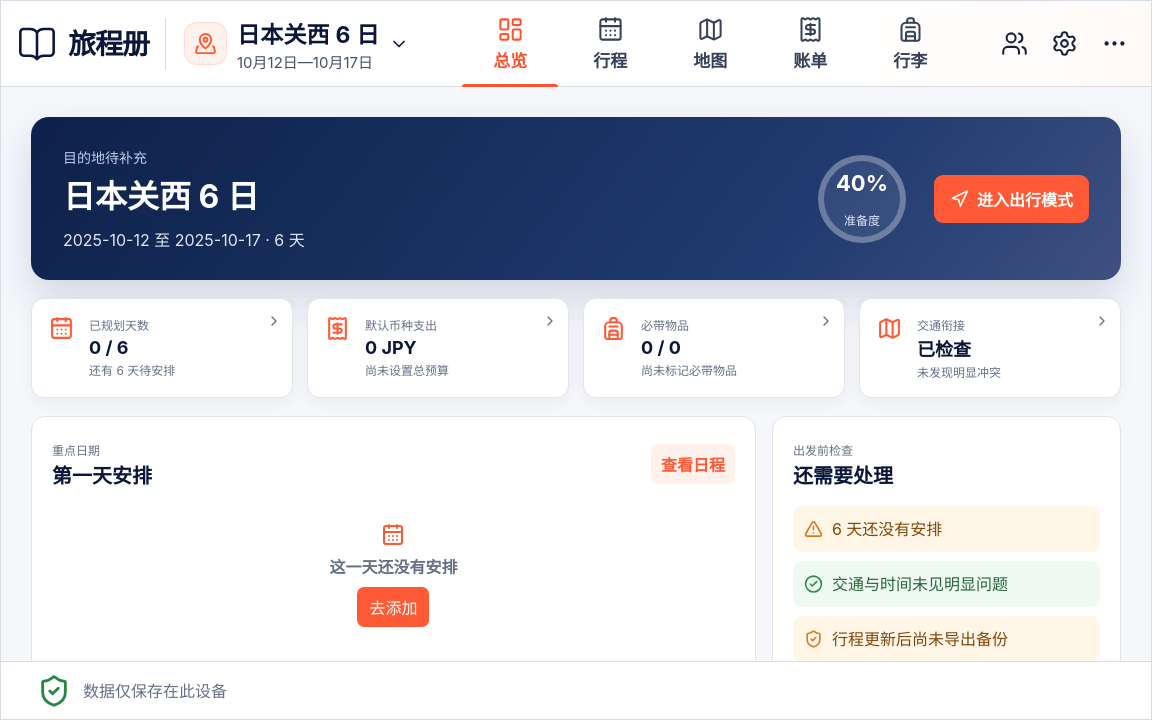
Test: App › persists a selected trip icon across the editor, workspace, and manager
This screenshot has width=1152, height=720.
Click the button named "管理行程" at (1064, 44), box [1043,22,1085,64]
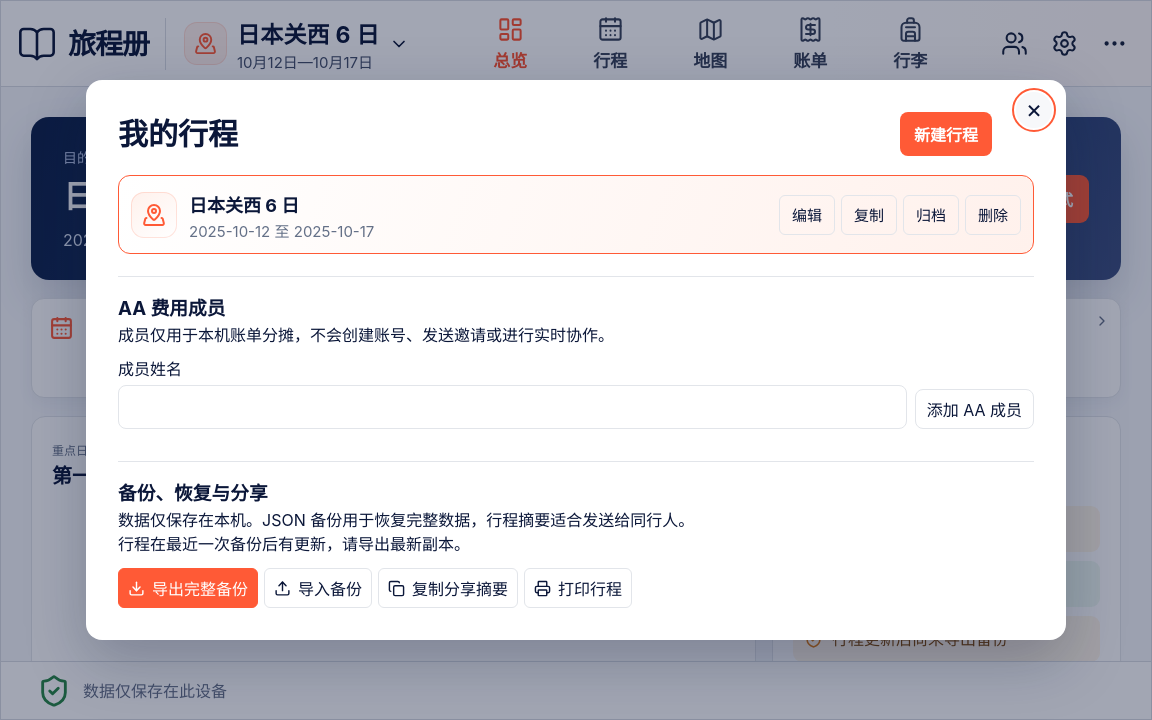
Click the button "编辑" at (807, 214), box [779,194,835,234]
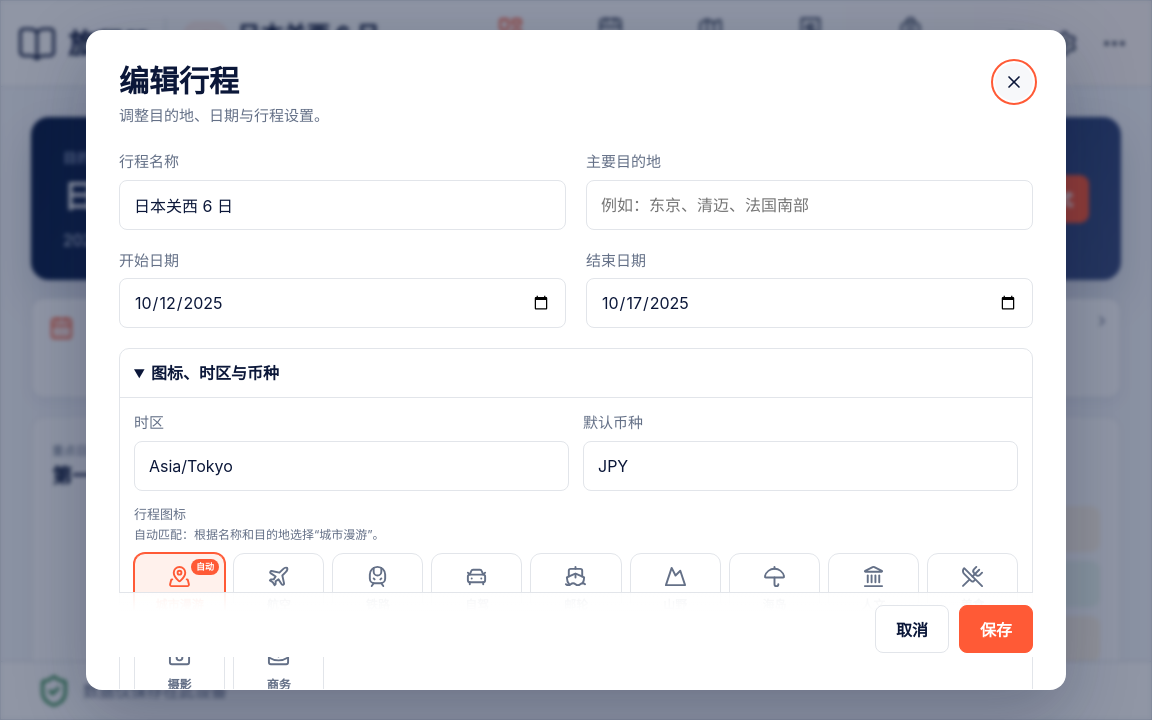
Click the radio button with aria-label "选择图标：航空" at (279, 589), box [233,553,324,625]
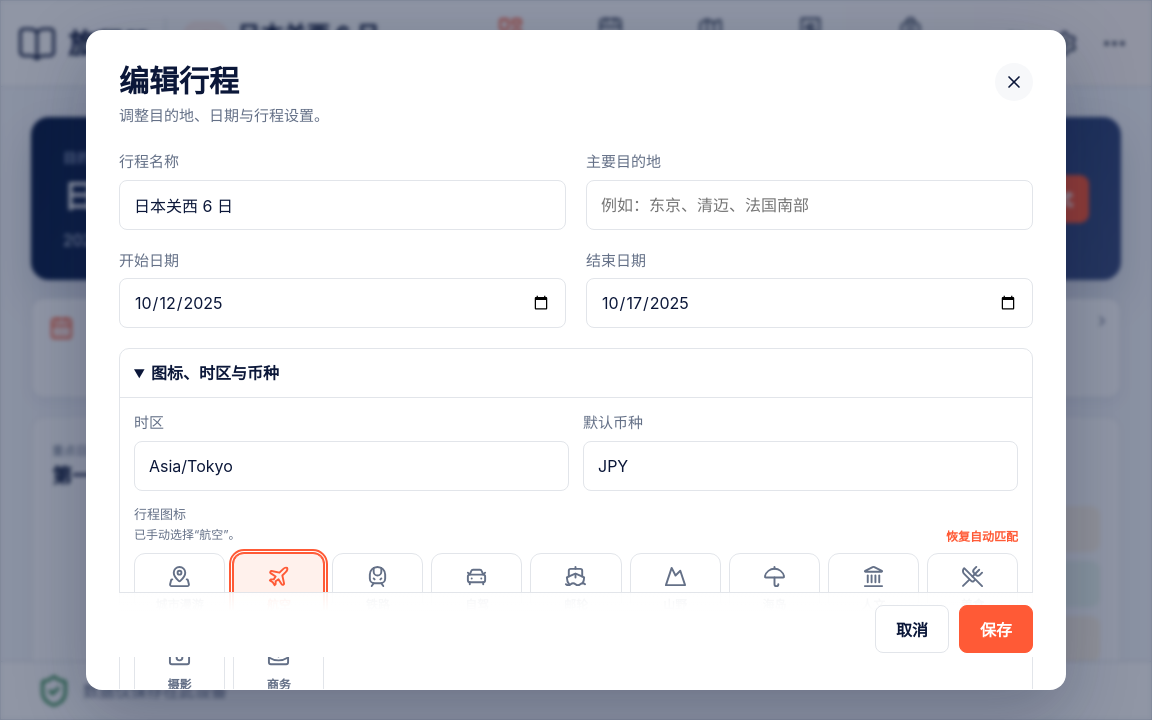
Click the button "保存" at (996, 629), box [959,605,1033,653]
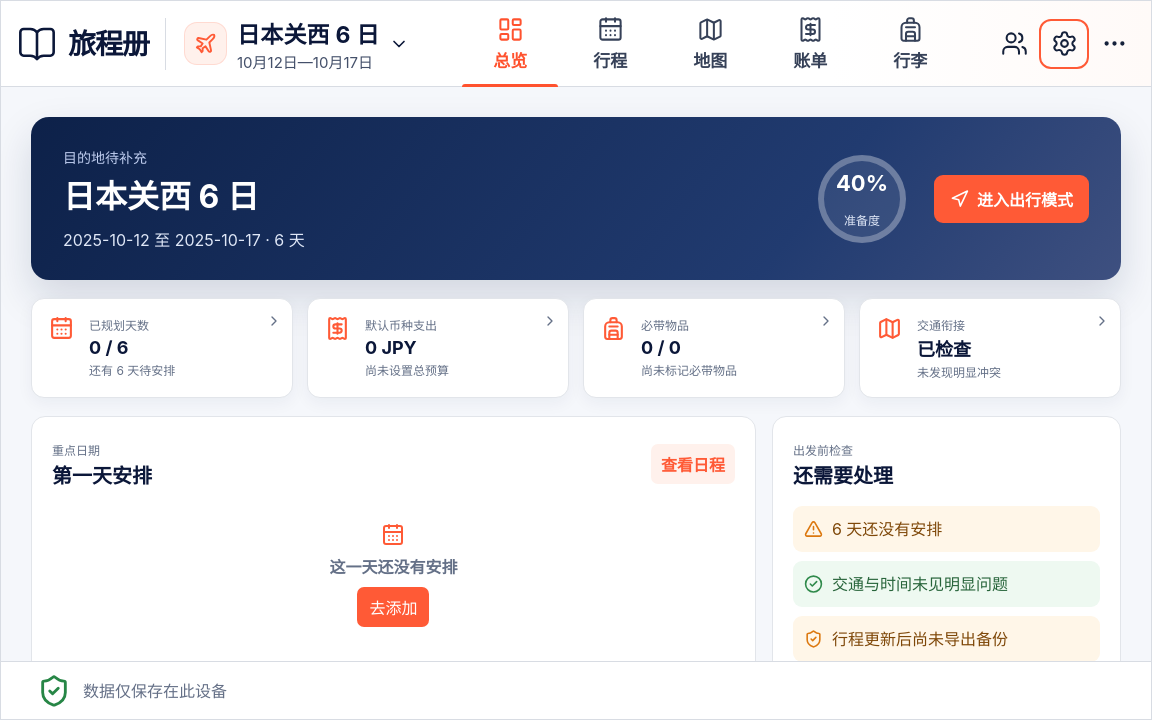
Now the picture named "行程图标：航空" is shown, box [184,22,227,65]
Click the button named "管理行程" at (1064, 44), box [1043,22,1085,64]
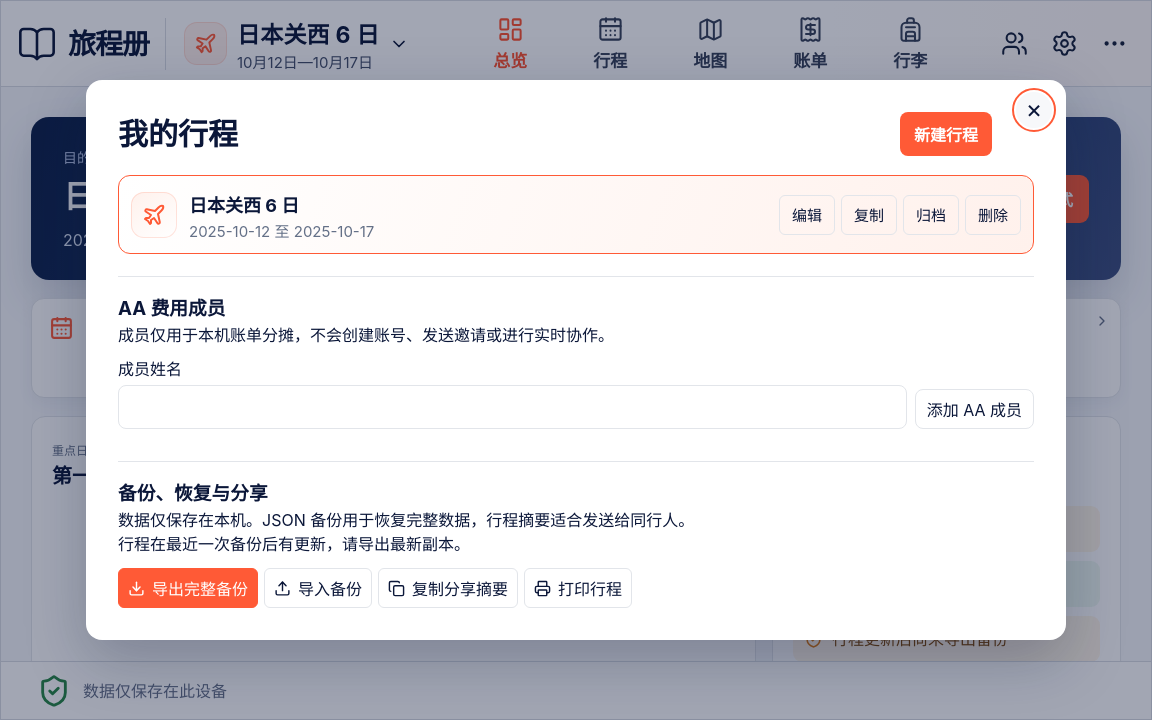
Now the picture named "行程图标：航空" is shown, box [131,191,177,237]
